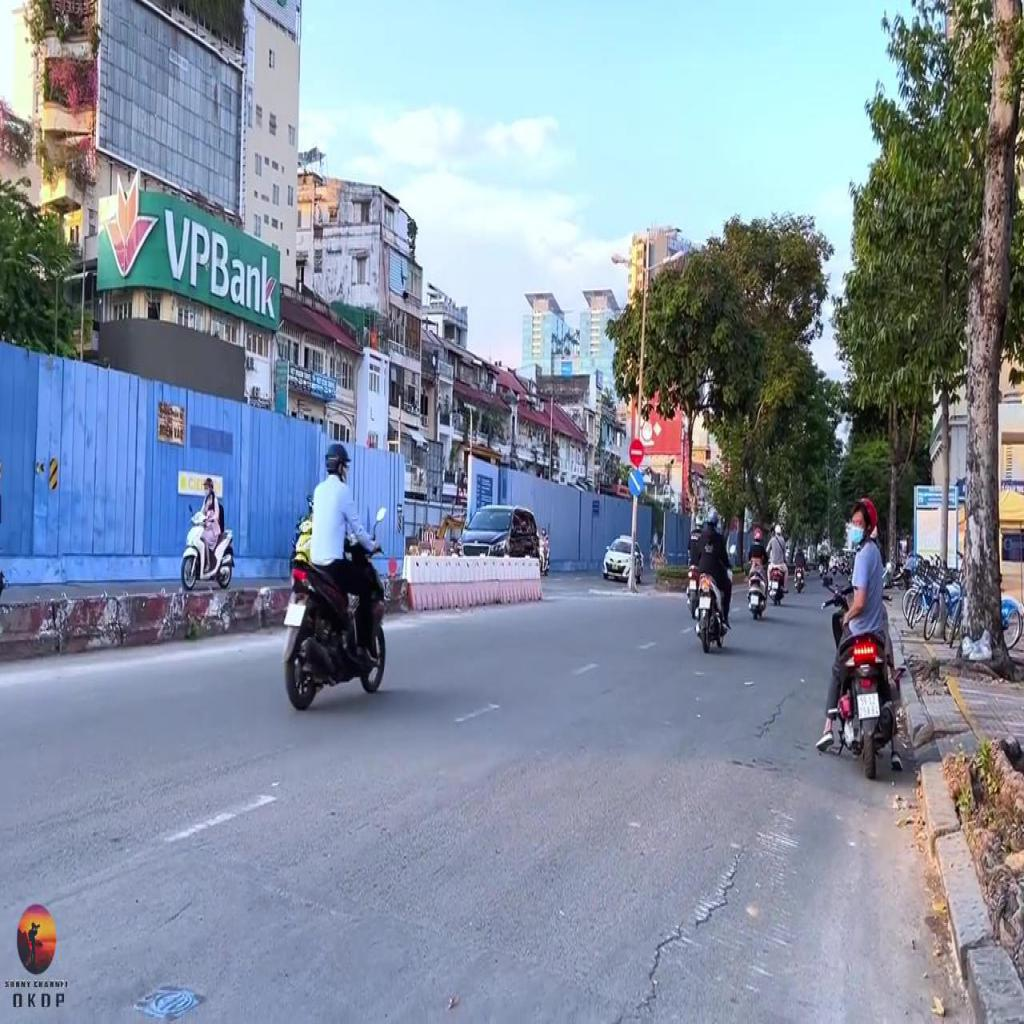cam_xe_di_nguoc_chieu: (630, 440, 643, 466)
huong_phai_di_vuot_chuong_ngai_vat_phai: (627, 469, 643, 495)
